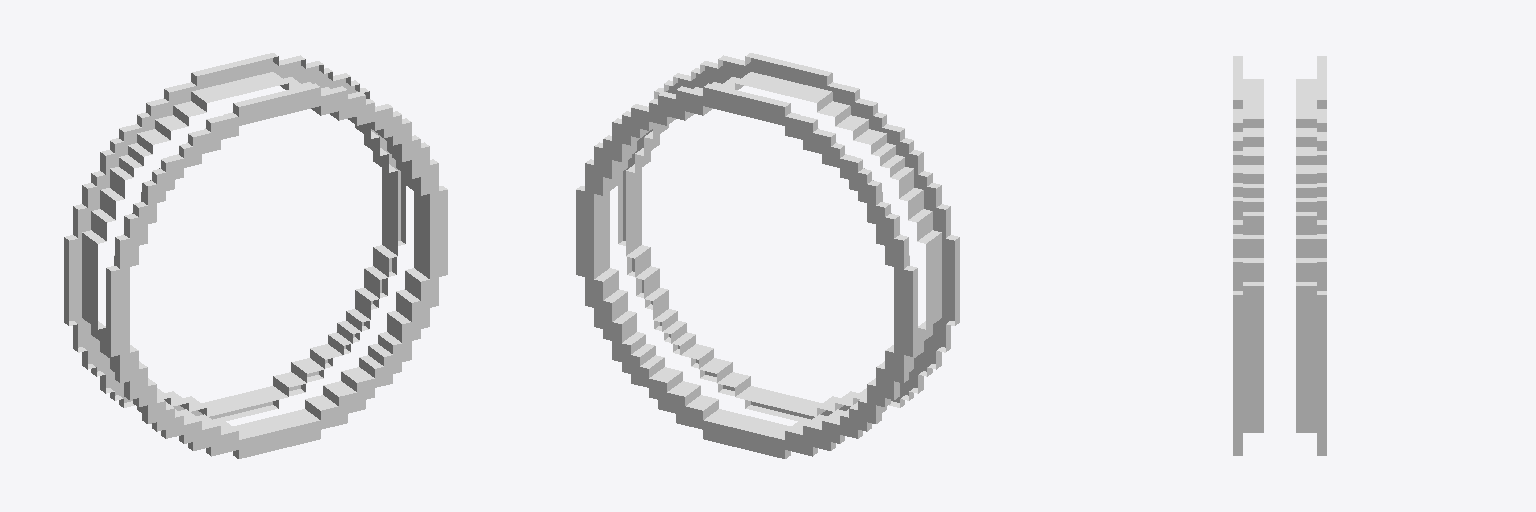
3 renders of one model, left to right at view 1: azimuth 30°, elevation 25°; view 2: azimuth 150°, elevation 25°; view 3: azimuth 270°, elevation 25°, orthographic.
Bounding box in the file's own units: 43 × 43 × 9.
Materials: 1 (1 with a texture image).